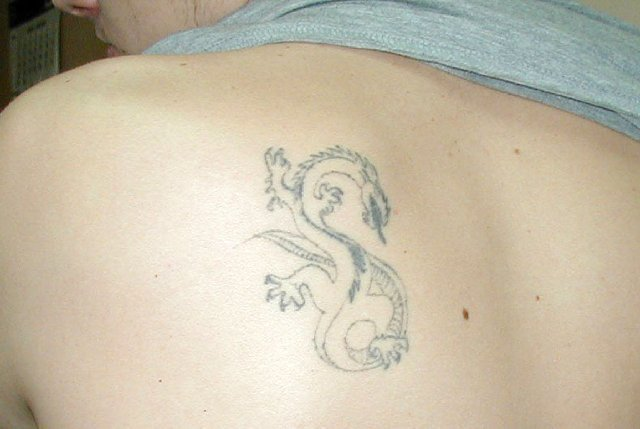tatu6_drakon: (249, 137, 430, 374)
